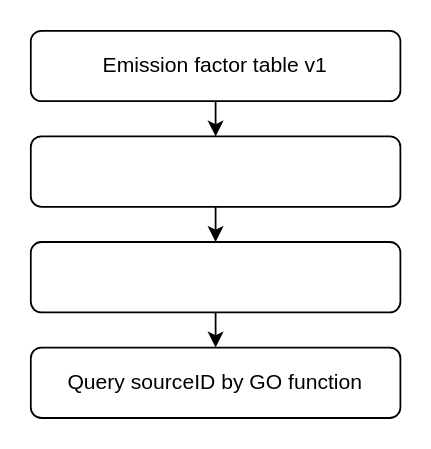
Image size: 431x449. Some labels were removed from this diagram. The box of each missing label's shape, as (x1, y1, x2, y2) in pixels:
Emission factor table v2: (29, 240, 400, 312)
Row selected by SQL code: (29, 135, 400, 207)
